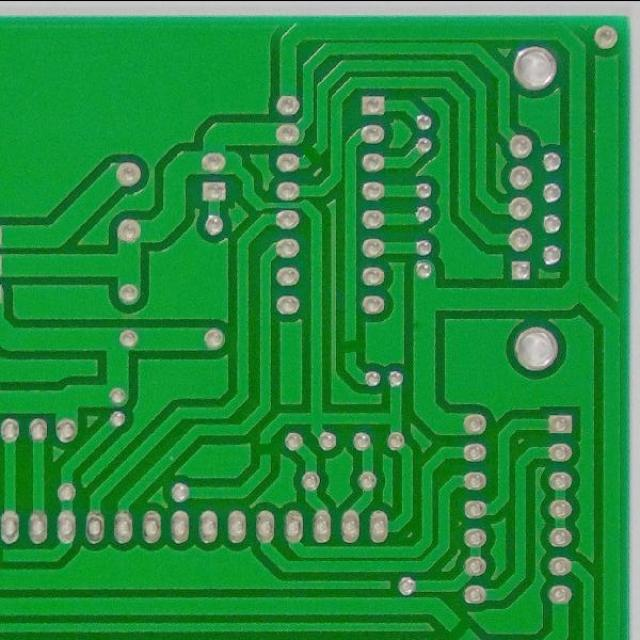Open_Circuit: (442, 613, 476, 640), (337, 331, 365, 362), (252, 435, 279, 464), (299, 141, 326, 167), (0, 541, 13, 573)
